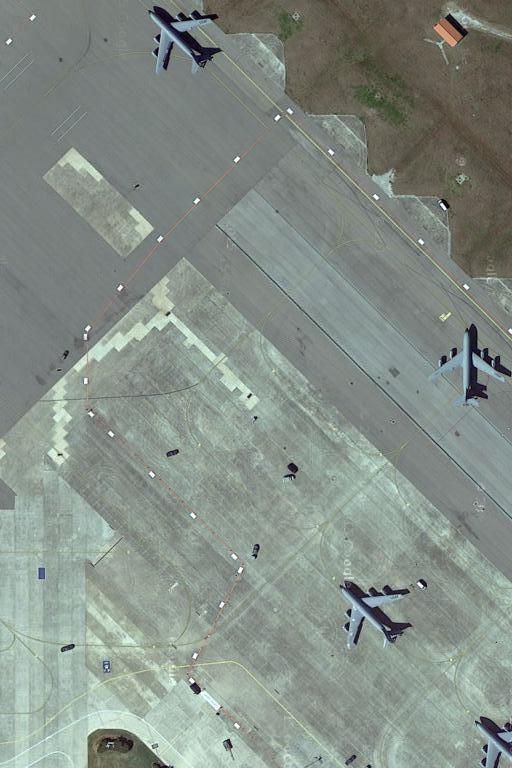KC-135: (429, 320, 511, 413), (335, 580, 410, 655), (149, 8, 224, 79)
